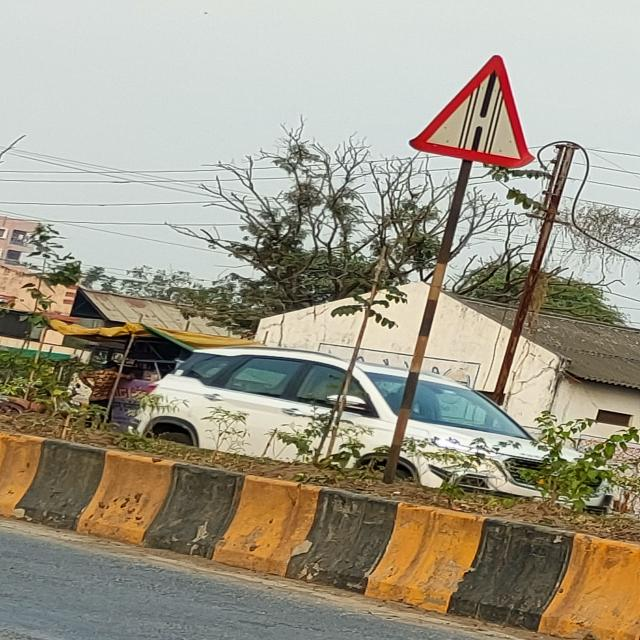ferry: (406, 53, 539, 167)
